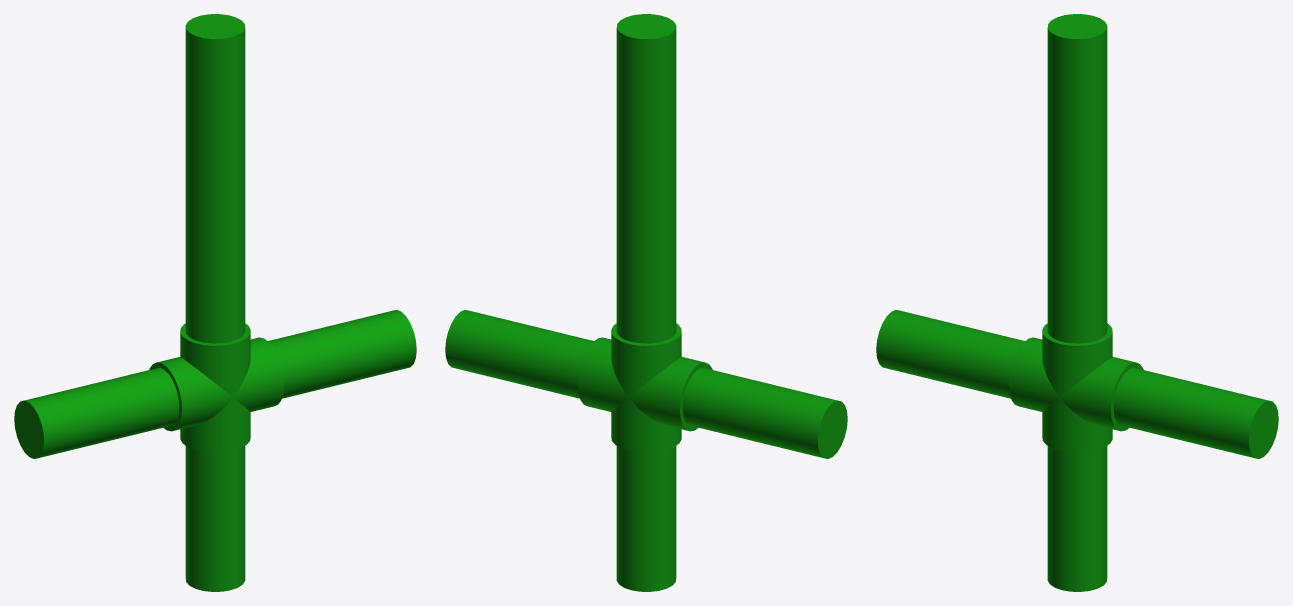
Rendered from crucifix_.obj.
3 renders of one model, left to right at view 1: azimuth 30°, elevation 25°; view 2: azimuth 150°, elevation 25°; view 3: azimuth 330°, elevation 25°, orthographic.
Parts seen in each view (by area): view 1: Bryła1; view 2: Bryła1; view 3: Bryła1.
Part boxes in pixels (x1,y1,x2,y2): Bryła1: [14, 14, 416, 591]; Bryła1: [445, 14, 847, 591]; Bryła1: [876, 14, 1278, 591].
Bounding box in the file's own units: 182 × 259 × 30.
